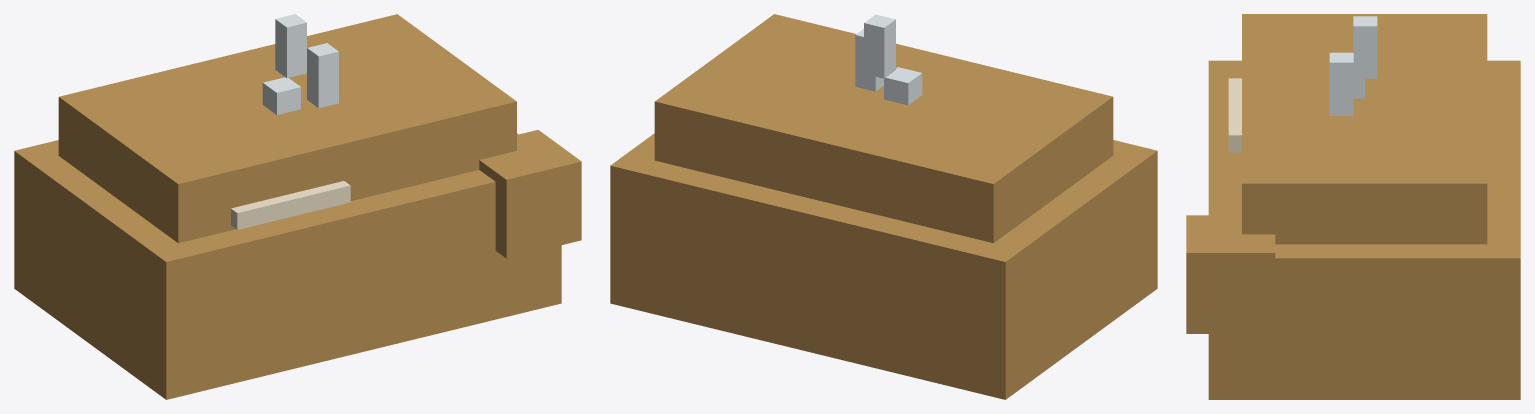
Rendered from product_canned_fillet.glb.
3 renders of one model, left to right at view 1: azimuth 30°, elevation 25°; view 2: azimuth 150°, elevation 25°; view 3: azimuth 270°, elevation 25°, orthographic. The views are drawn at different scales.
Visible parts, largest first — view 1: ProductArt_body, ProductArt_steam, ProductArt_label; view 2: ProductArt_body, ProductArt_steam; view 3: ProductArt_body, ProductArt_steam, ProductArt_label.
Boxes of the visible parts, x1,y1,x2,y2 form: ProductArt_body: [14, 14, 581, 399]; ProductArt_steam: [262, 14, 338, 114]; ProductArt_label: [231, 181, 350, 229]; ProductArt_body: [610, 14, 1157, 399]; ProductArt_steam: [855, 14, 922, 105]; ProductArt_body: [1186, 14, 1520, 399]; ProductArt_steam: [1329, 16, 1377, 115]; ProductArt_label: [1228, 78, 1241, 152].
Bounding box in the file's own units: 0.24 × 0.1554 × 0.1674.
